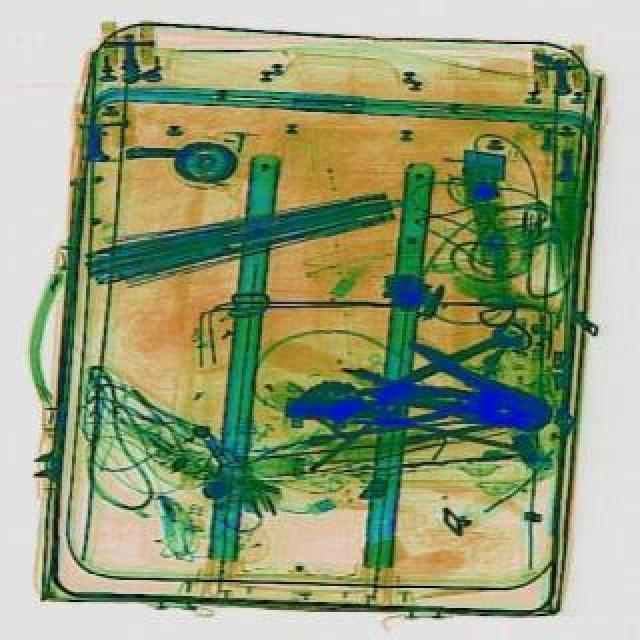scissors: (386, 316, 522, 396)
wrench: (376, 336, 560, 448)
